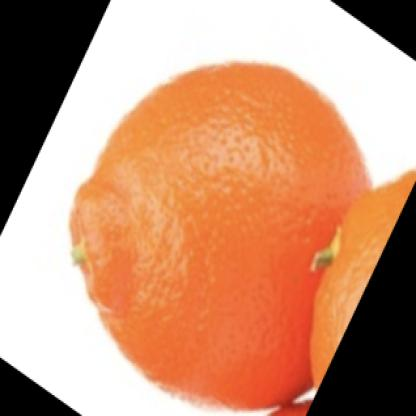fresh: (72, 62, 371, 416)
